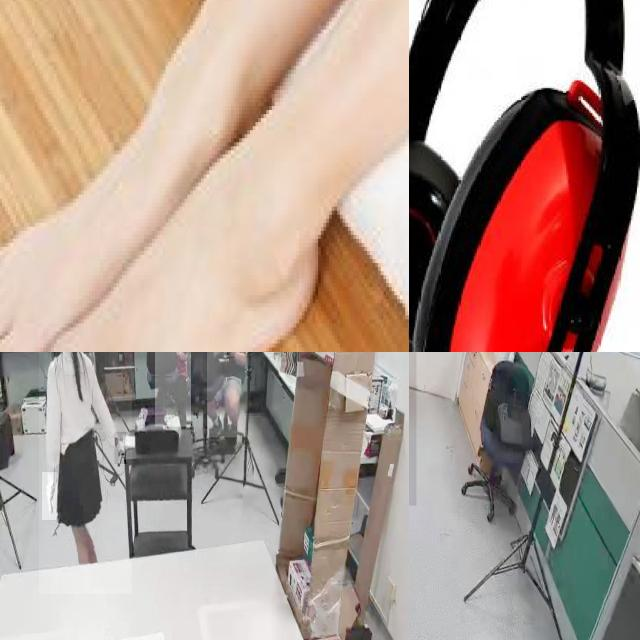Barefoots: (0, 198, 322, 352)
Ear-protection: (409, 0, 640, 352)
hand_glove: (42, 472, 58, 521), (115, 432, 126, 465)
hand_noglove: (226, 352, 235, 359)
person: (39, 352, 132, 594), (207, 352, 248, 438), (154, 352, 191, 427)
